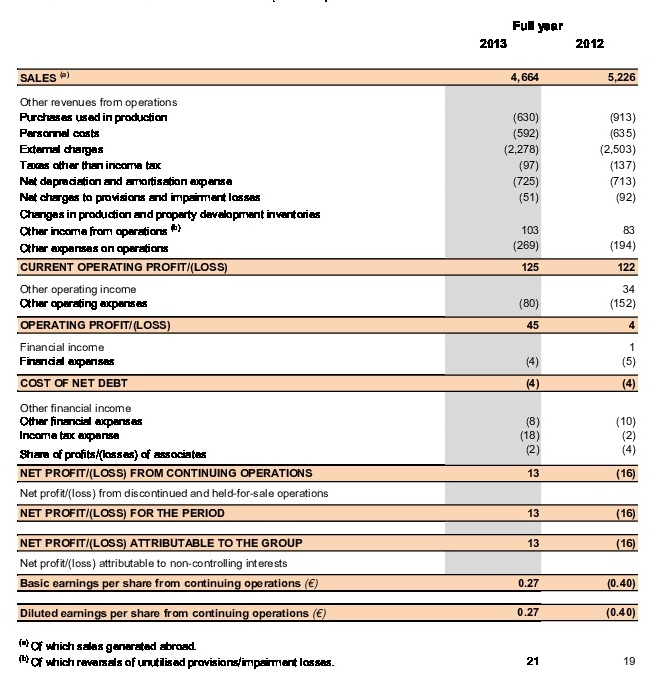table: (0, 0, 661, 683)
